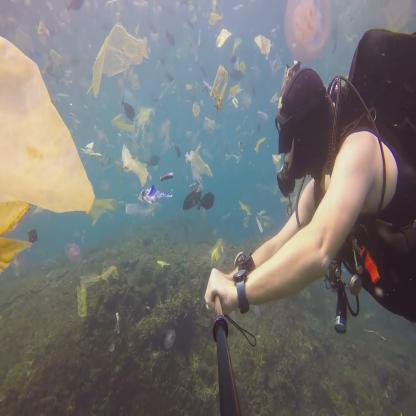Rác: (0, 36, 94, 237), (99, 26, 150, 66), (183, 0, 226, 45), (162, 76, 199, 117), (122, 100, 157, 136), (182, 148, 216, 184), (236, 199, 272, 229), (76, 276, 96, 320), (208, 62, 228, 106), (226, 145, 270, 164), (137, 182, 166, 200), (206, 242, 228, 262), (257, 31, 271, 51), (254, 106, 268, 124)
